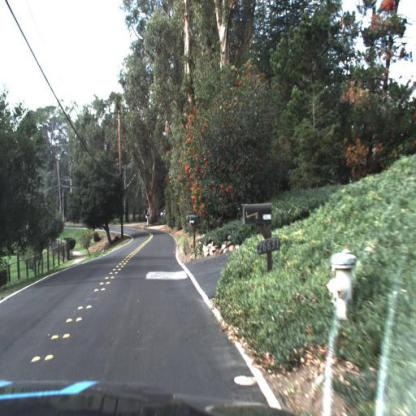car: (156, 208, 170, 233)
